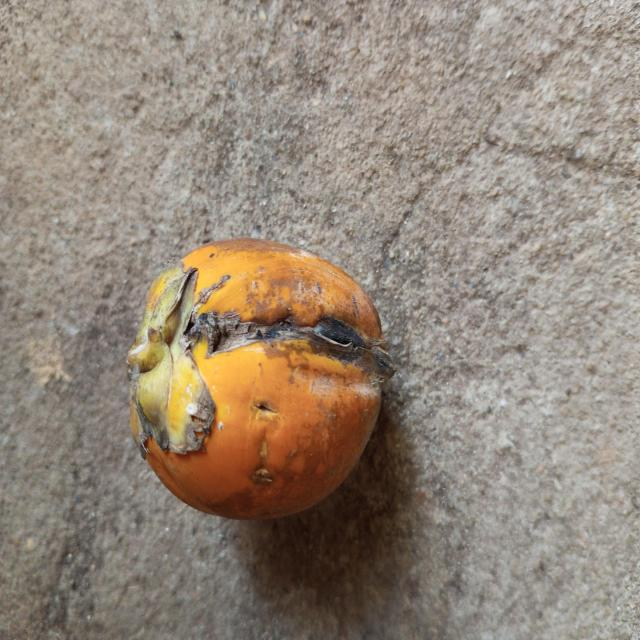damaged: (127, 239, 389, 523)
